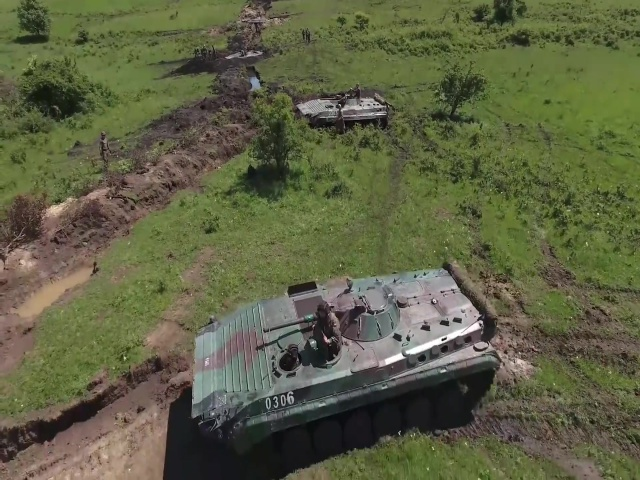person: (97, 130, 111, 171), (335, 102, 345, 134)
vehicle: (190, 261, 505, 452), (294, 94, 390, 130)
